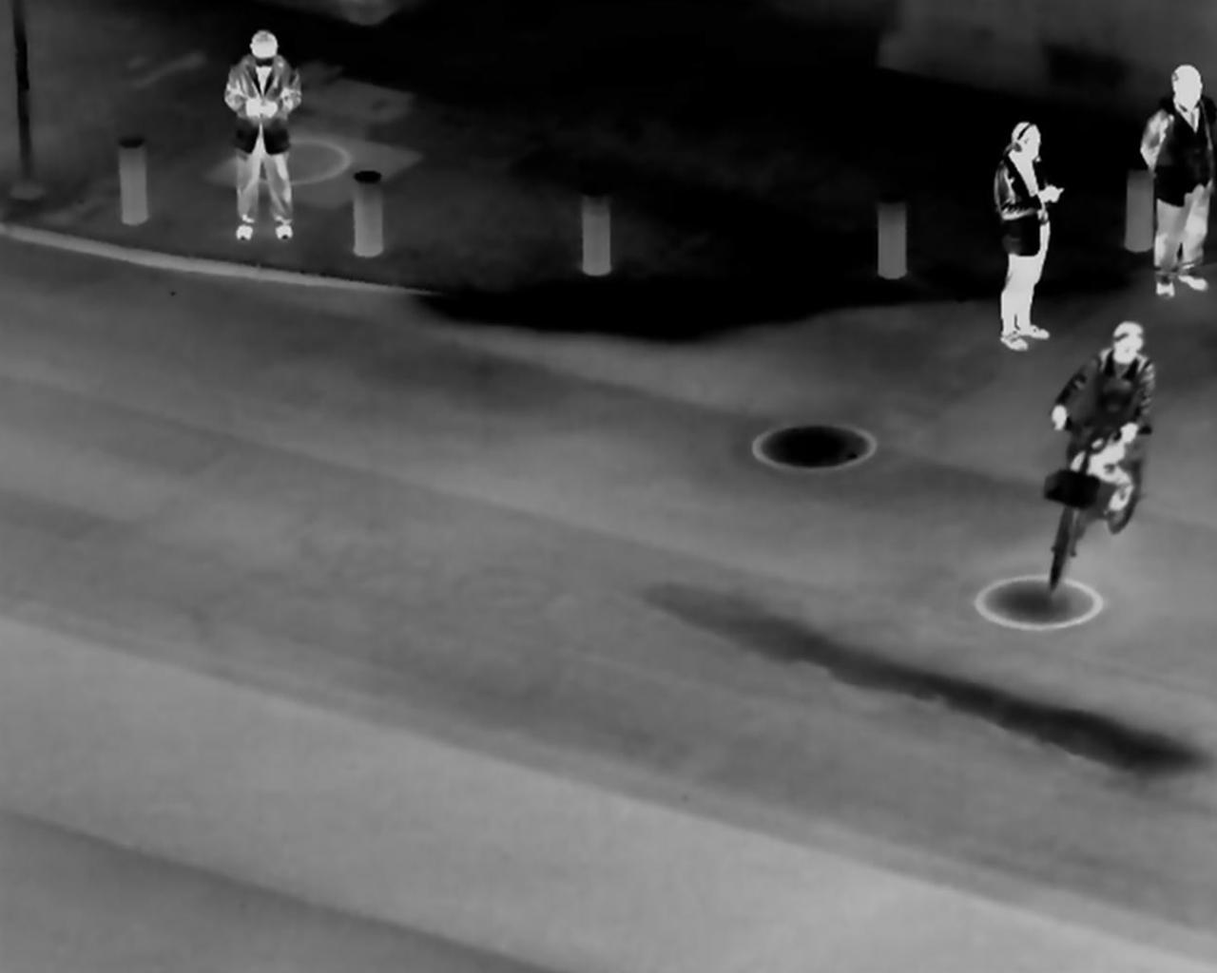person: (1054, 303, 1155, 582), (981, 111, 1072, 358), (216, 29, 320, 245), (1140, 56, 1214, 302)
